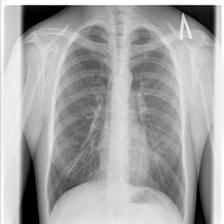tuberculosis: (46, 14, 188, 224)
